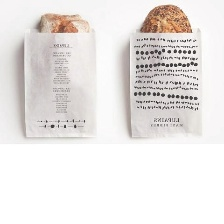snack: (123, 0, 208, 142), (18, 5, 102, 144)
